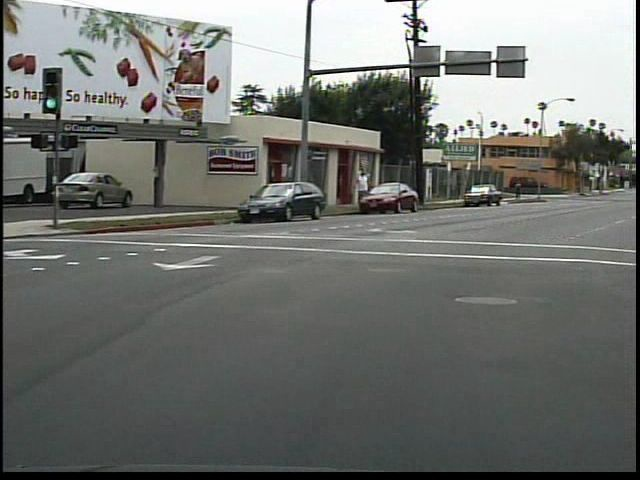person: (354, 165, 376, 212), (514, 178, 526, 205)
